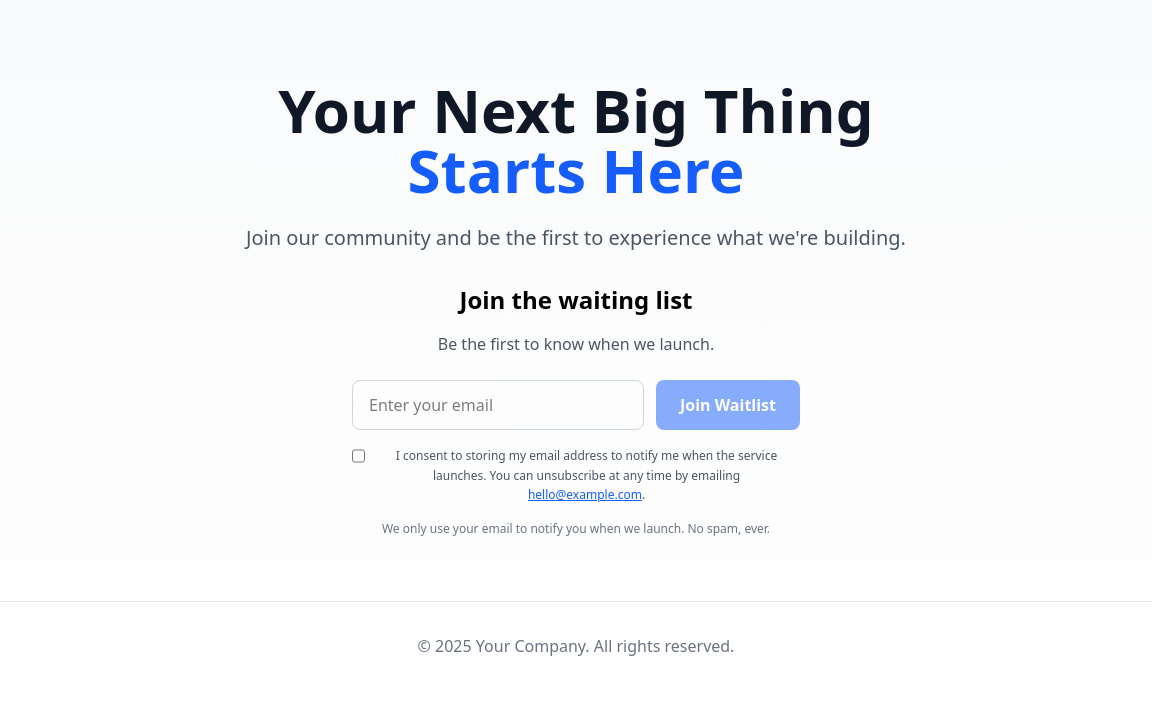
HomePage › shows success message after joining waitlist
The width and height of the screenshot is (1152, 720).
In the field with placeholder "Enter your email": (498, 405) [352,380,644,430], type "test@example.com"
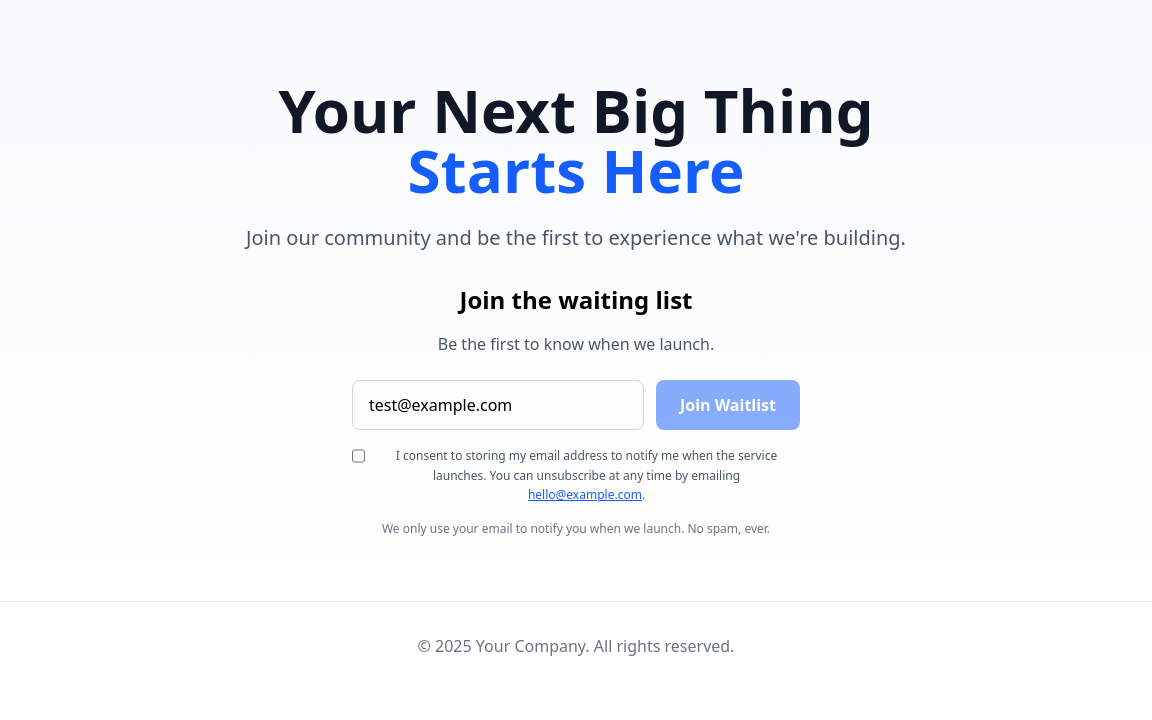
Click the checkbox: (358, 456) [352,448,365,464]
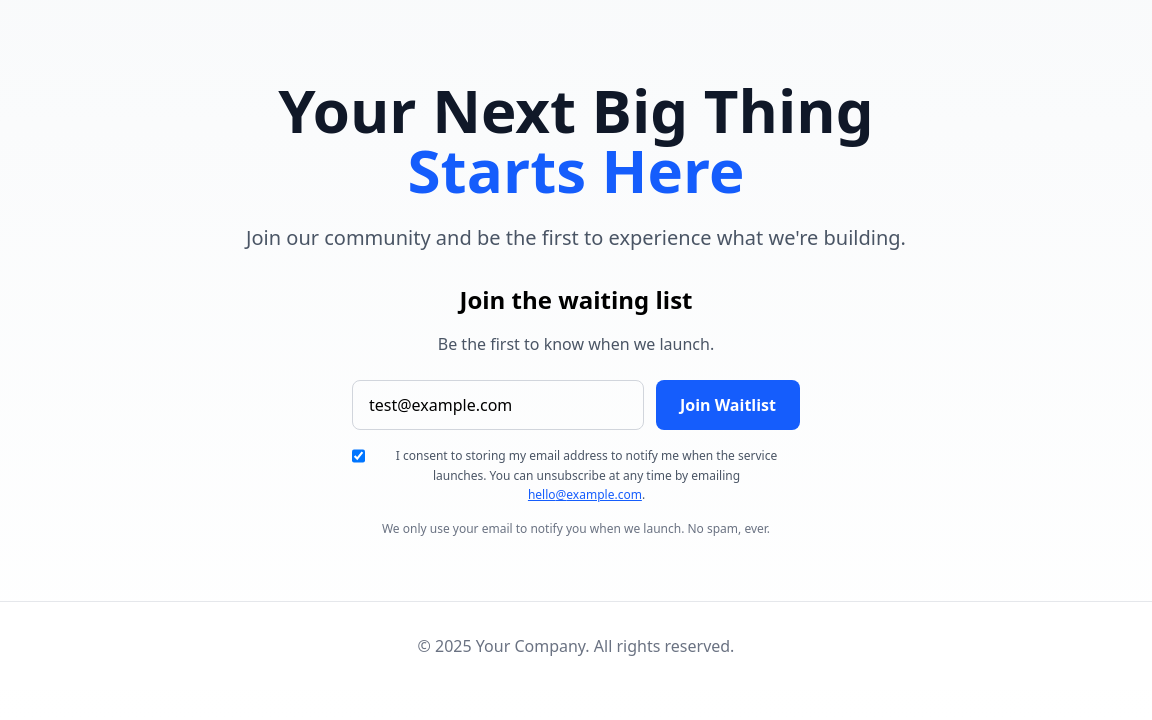
Click the button "Join Waitlist": (728, 405) [656,380,800,430]
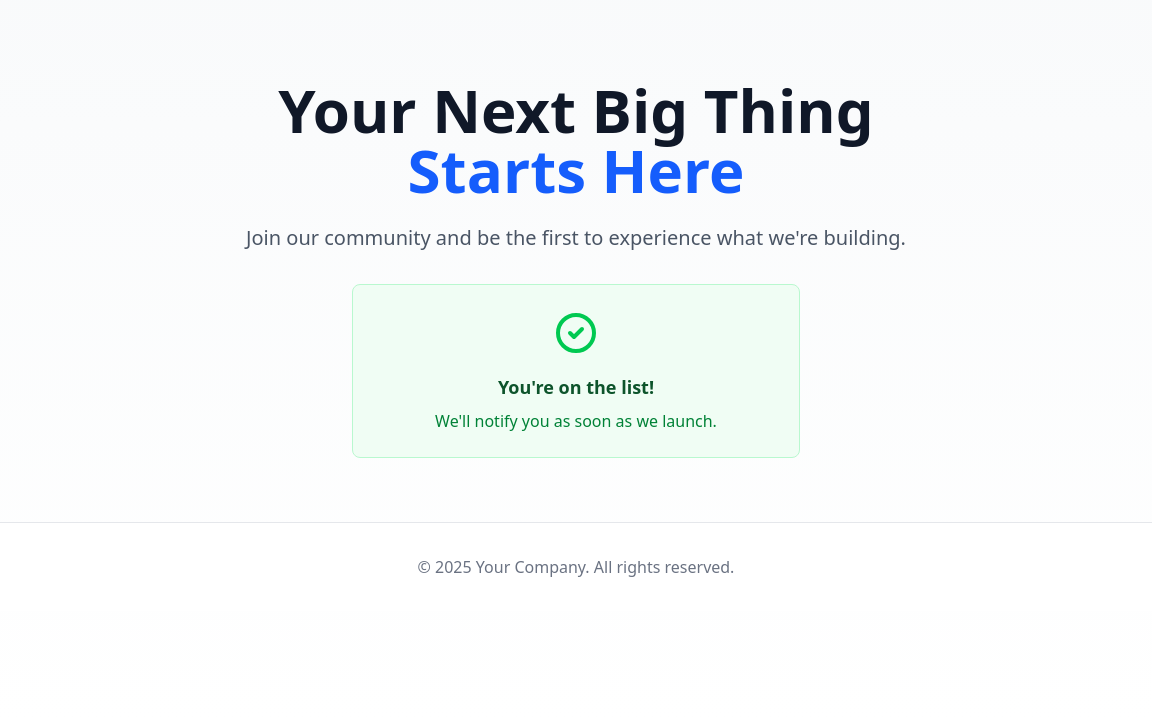
Expected: the heading "You're on the list!" is shown, [498,375,654,399]
